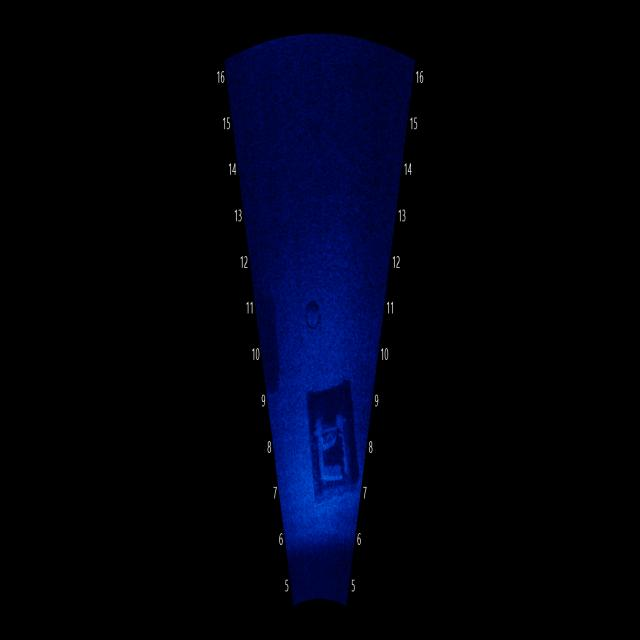square: (299, 369, 366, 512)
